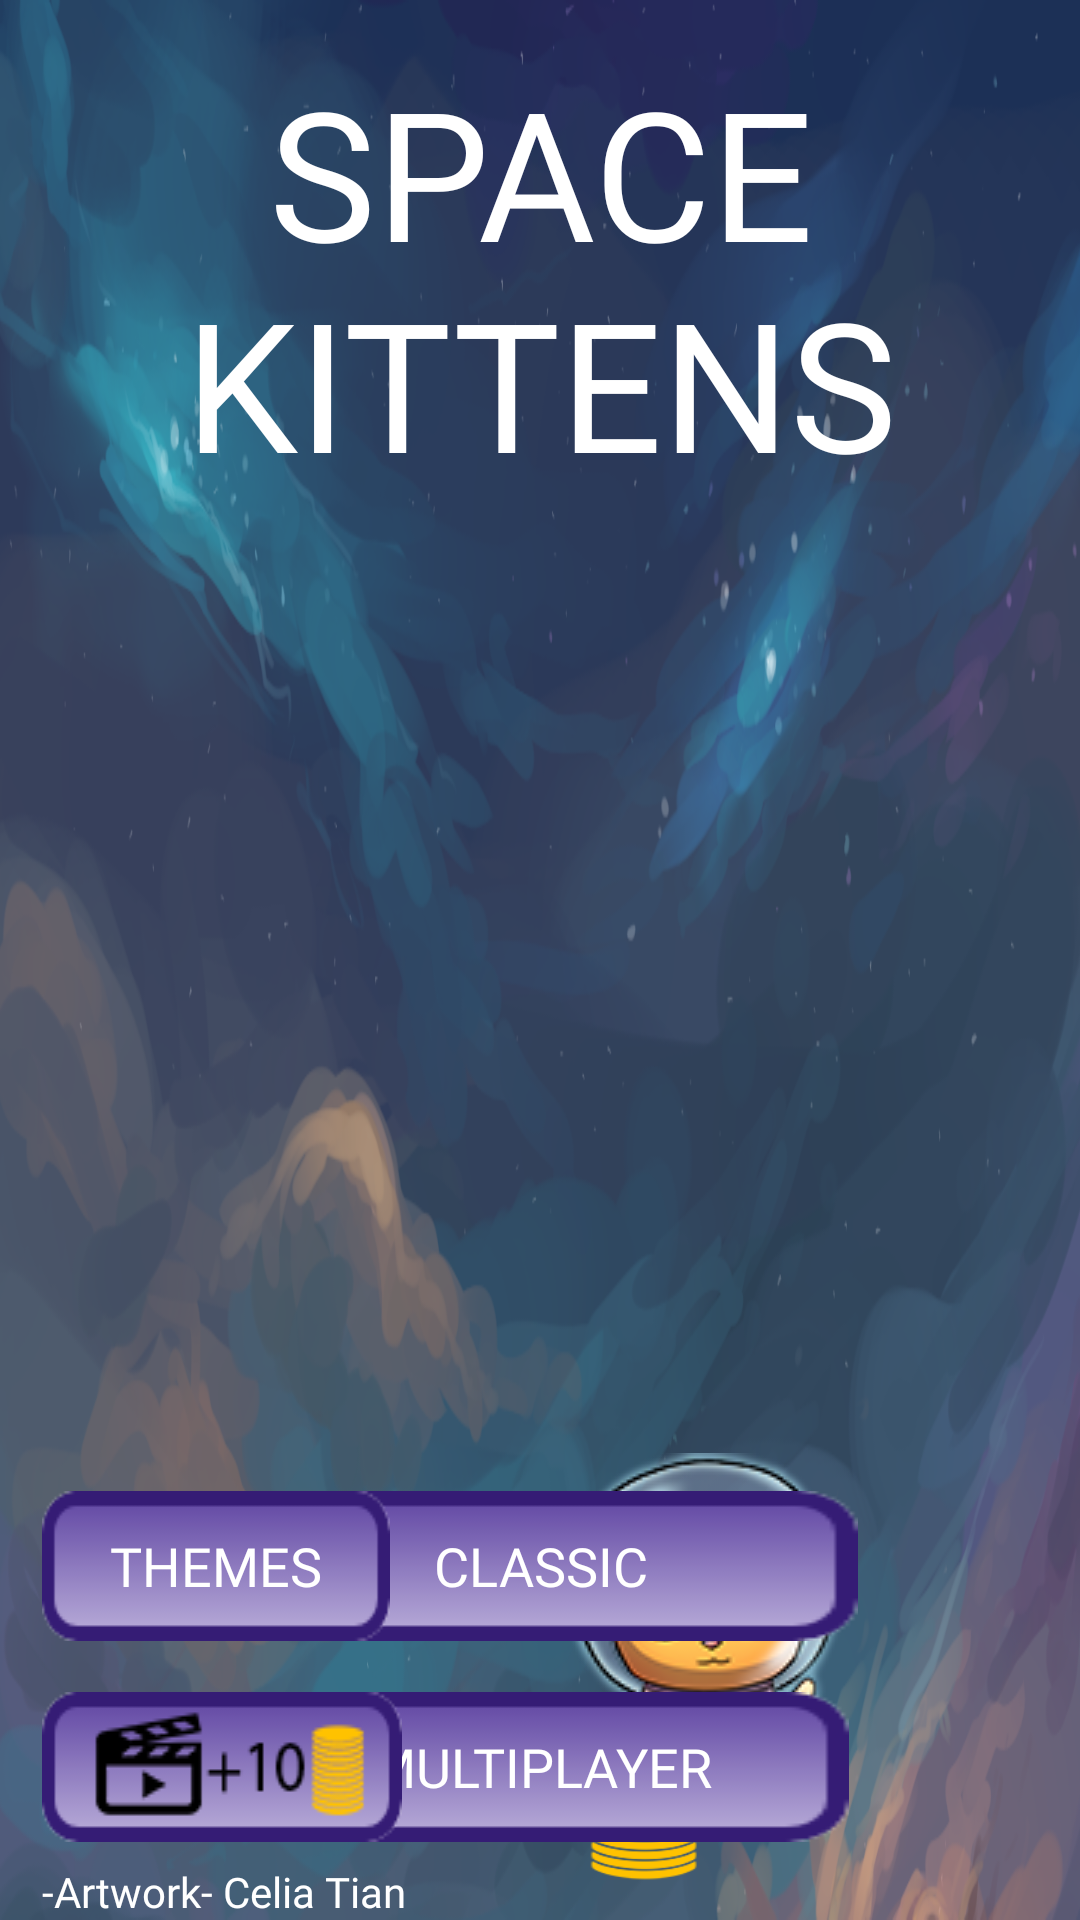

Where icons sit on this 1080 x 1920 app screen, as bbox(x1, y1, x2, y2):
videoad: bbox(42, 1692, 402, 1842)
